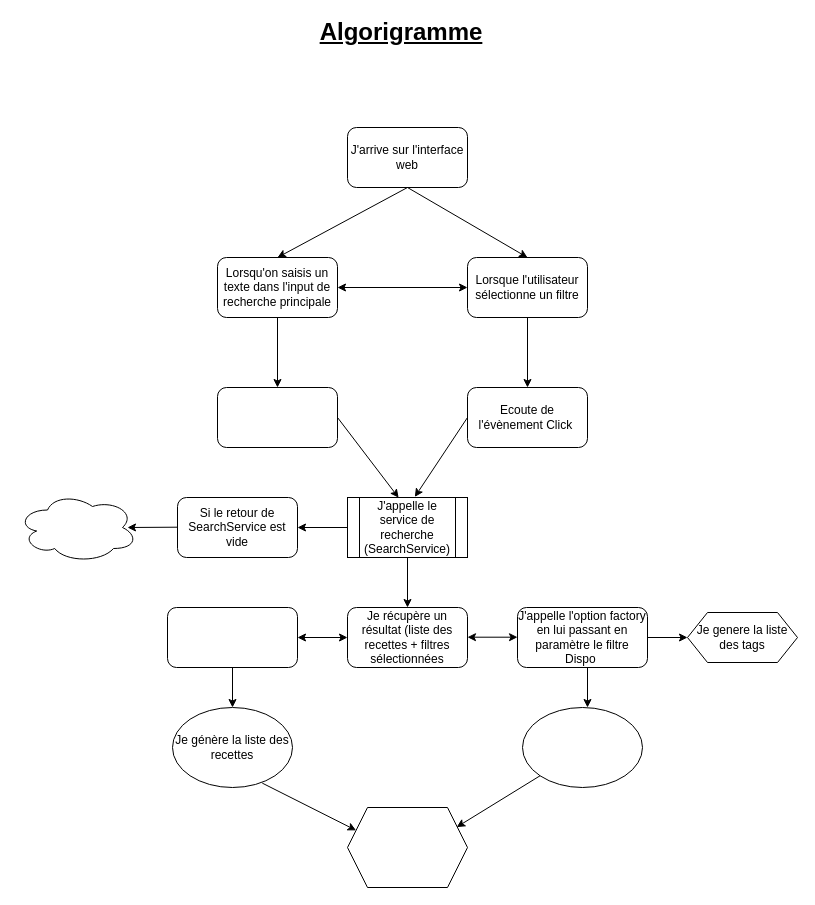
Some shapes in this 815 by 905 pixel diagram are drawn without their labels. Here are the shapes that lost their labels. From the top down, the centre of each, then its label:
point (277, 417): Ecoute de l'évènement Input
point (77, 527): Message d'erreur
point (232, 637): J'appelle la card factory en lui passant en paramètre le résultat des recettes
point (582, 747): Je retire les filtres présent dans les tags
point (407, 847): Résultat final
